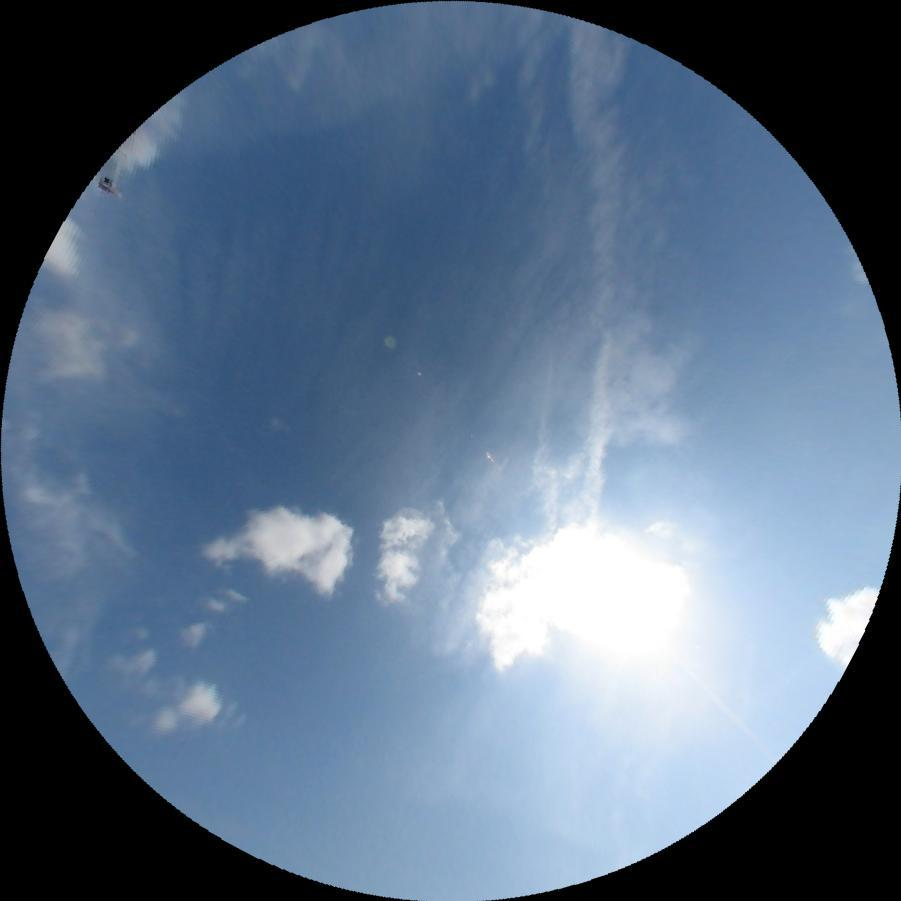contrail veryold: (570, 17, 639, 528), (523, 355, 561, 529)
parasite: (671, 652, 780, 760)
sun: (559, 541, 693, 668)
